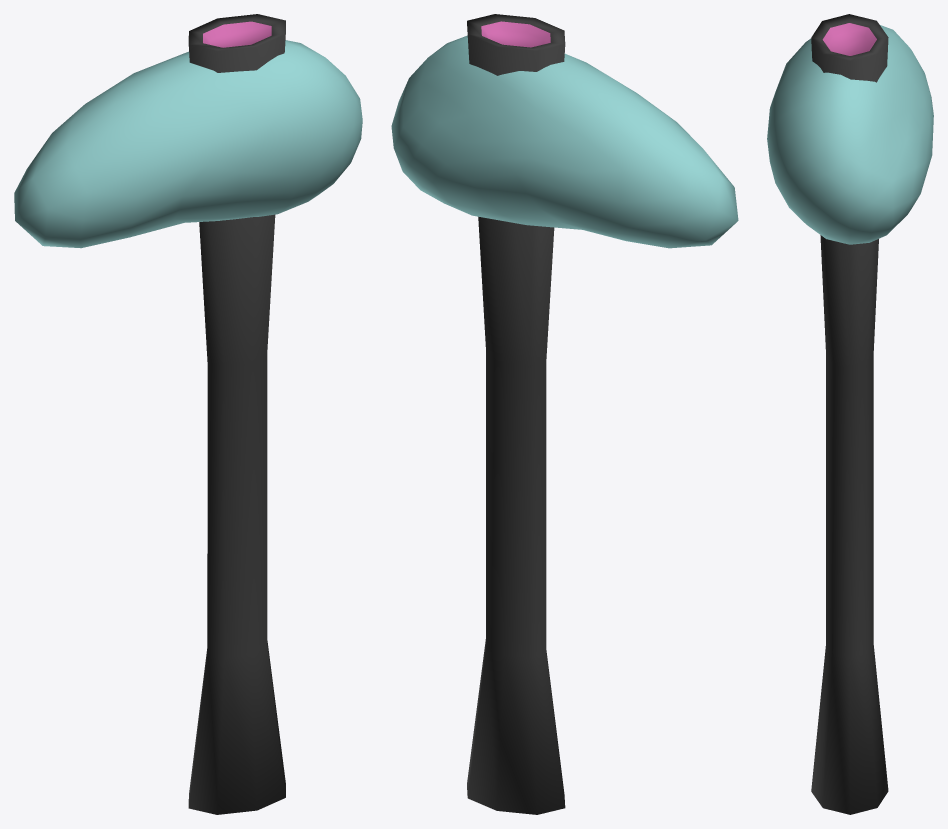
The model's file is hache.fbx.
The picture shows the model from 3 angles, left to right: view 1: azimuth 30°, elevation 25°; view 2: azimuth 150°, elevation 25°; view 3: azimuth 270°, elevation 25°; orthographic projection.
Visible parts, largest first — view 1: Cube; view 2: Cube; view 3: Cube.
Boxes of the visible parts, bbox=[...] form: Cube: bbox=[14, 14, 362, 814]; Cube: bbox=[391, 14, 738, 814]; Cube: bbox=[767, 14, 933, 814].
Size of the model in its own units: 150 by 322 by 64.55.
